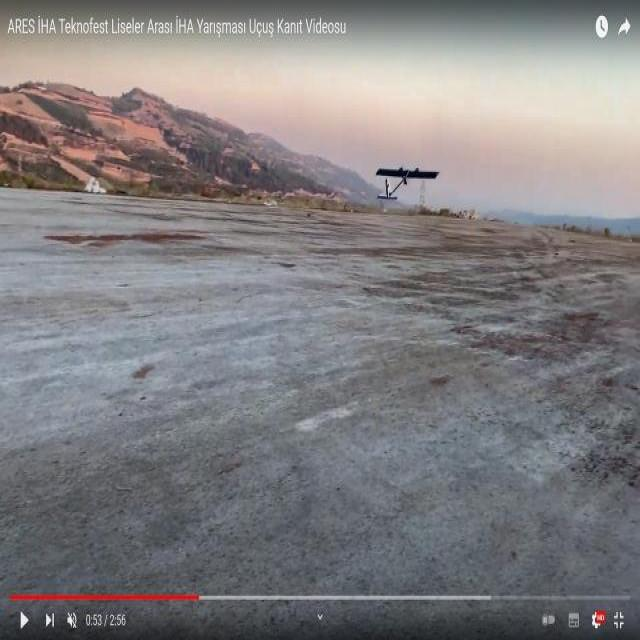iha: (393, 149, 412, 205)
